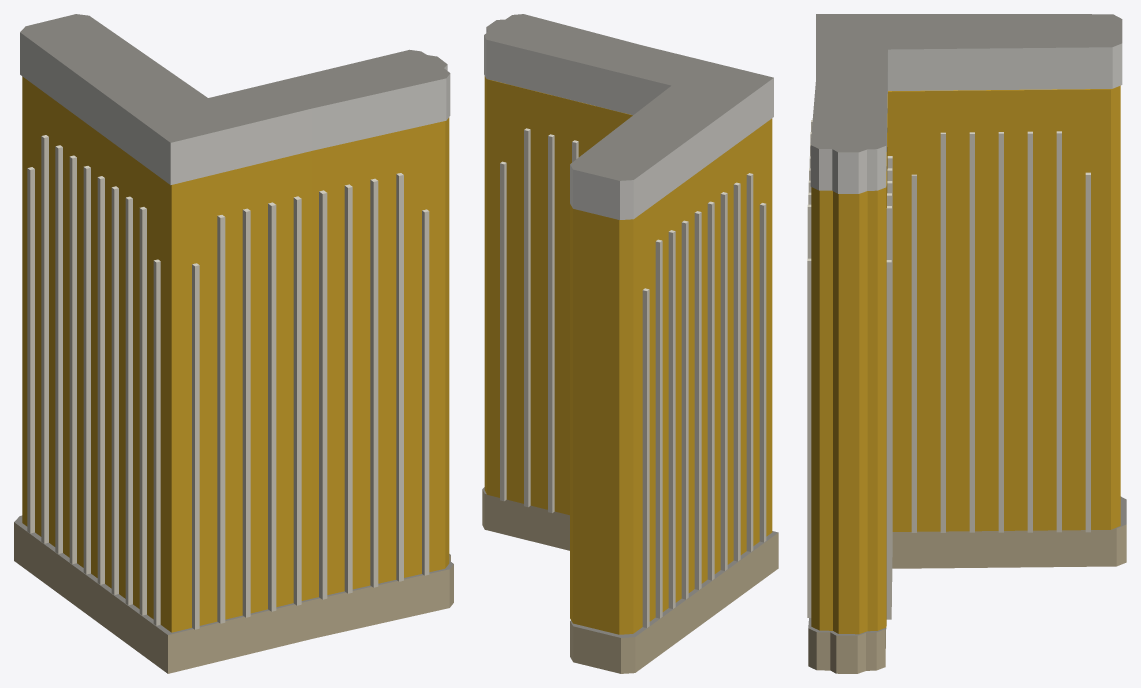
The model's file is w_las_vegas.glb.
3 views of the same model, side by side, from view 1: azimuth 30°, elevation 25°; view 2: azimuth 150°, elevation 25°; view 3: azimuth 270°, elevation 25° (orthographic). The views are drawn at different scales.
Parts seen in each view (by area): view 1: HotelTower; view 2: HotelTower; view 3: HotelTower.
Boxes of the visible parts, x1,y1,x2,y2 form: HotelTower: (14,14,453,673); HotelTower: (482,14,778,673); HotelTower: (807,14,1126,673).
Bounding box in the file's own units: 87.45 × 150 × 83.45.
